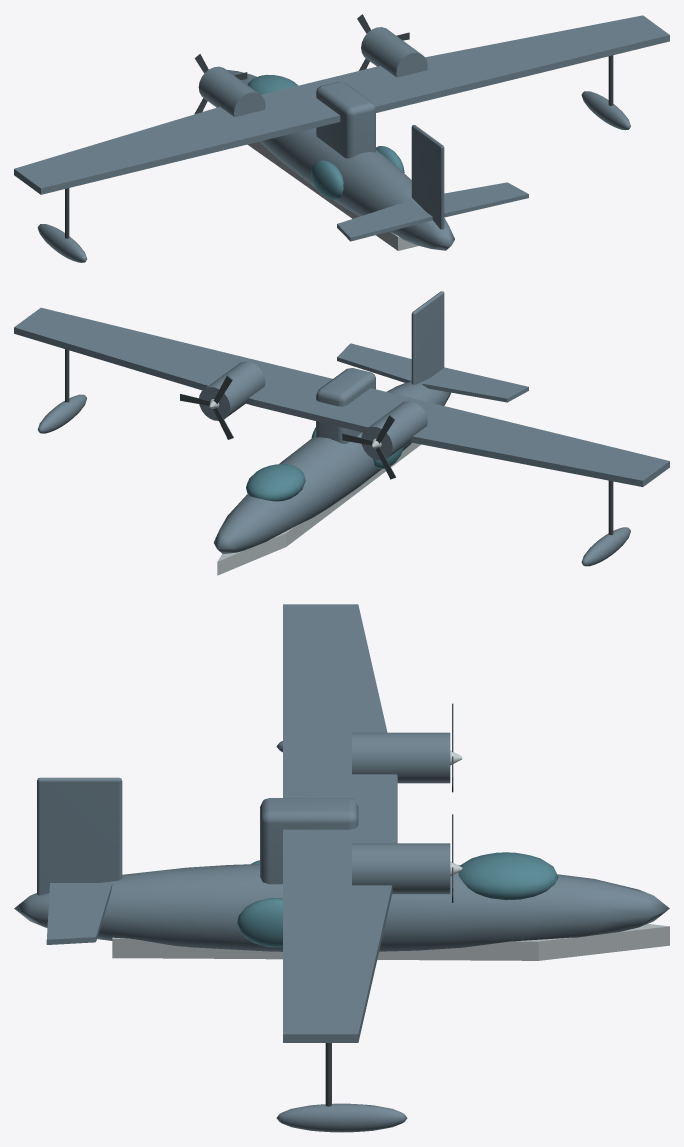
Rendered from generic-ww2-scout.glb.
3 renders of one model, top to bottom at view 1: azimuth 30°, elevation 25°; view 2: azimuth 150°, elevation 25°; view 3: azimuth 270°, elevation 25°, orthographic. The views are drawn at different scales.
Parts seen in each view (by area): view 1: ww2-scout_HighWing, ww2-scout_FlyingBoatHull, ww2-scout_WingPylon, ww2-scout_VerticalTail, ww2-scout_EngineNacelle, ww2-scout_EngineNacelle.001, ww2-scout_Tailplane, ww2-scout_Tailplane.001, ww2-scout_FlyingBoatKeel, ww2-scout_ObserverBlister, ww2-scout_WingFloat, ww2-scout_WingFloat.001 (+1 smaller); view 2: ww2-scout_HighWing, ww2-scout_FlyingBoatHull, ww2-scout_VerticalTail, ww2-scout_FlyingBoatKeel, ww2-scout_WingPylon, ww2-scout_EngineNacelle, ww2-scout_EngineNacelle.001, ww2-scout_Tailplane, ww2-scout_Cockpit, ww2-scout_Tailplane.001, ww2-scout_WingFloat, ww2-scout_WingFloat.001 (+2 smaller); view 3: ww2-scout_HighWing, ww2-scout_FlyingBoatHull, ww2-scout_VerticalTail, ww2-scout_FlyingBoatKeel, ww2-scout_EngineNacelle.001, ww2-scout_EngineNacelle, ww2-scout_WingPylon, ww2-scout_Cockpit, ww2-scout_Tailplane.001, ww2-scout_WingFloat.001, ww2-scout_ObserverBlister.001.
Boxes of the visible parts, <box> form: ww2-scout_HighWing: <box>14,15,669,194</box>; ww2-scout_FlyingBoatHull: <box>226,69,454,250</box>; ww2-scout_WingPylon: <box>316,81,375,158</box>; ww2-scout_VerticalTail: <box>411,125,444,229</box>; ww2-scout_EngineNacelle: <box>198,66,265,117</box>; ww2-scout_EngineNacelle.001: <box>361,27,427,77</box>; ww2-scout_Tailplane: <box>337,200,432,241</box>; ww2-scout_Tailplane.001: <box>444,182,528,217</box>; ww2-scout_FlyingBoatKeel: <box>247,141,418,250</box>; ww2-scout_ObserverBlister: <box>311,160,343,199</box>; ww2-scout_WingFloat: <box>37,224,86,262</box>; ww2-scout_WingFloat.001: <box>581,91,630,130</box>; ww2-scout_HighWing: <box>14,307,669,486</box>; ww2-scout_FlyingBoatHull: <box>213,378,450,554</box>; ww2-scout_VerticalTail: <box>411,291,444,384</box>; ww2-scout_FlyingBoatKeel: <box>217,442,420,575</box>; ww2-scout_WingPylon: <box>316,368,375,443</box>; ww2-scout_EngineNacelle: <box>361,401,427,460</box>; ww2-scout_EngineNacelle.001: <box>199,361,265,420</box>; ww2-scout_Tailplane: <box>422,367,528,402</box>; ww2-scout_Cockpit: <box>246,464,305,501</box>; ww2-scout_Tailplane.001: <box>337,343,411,382</box>; ww2-scout_WingFloat: <box>581,527,630,566</box>; ww2-scout_WingFloat.001: <box>37,394,86,433</box>; ww2-scout_HighWing: <box>283,604,397,1042</box>; ww2-scout_FlyingBoatHull: <box>14,864,669,951</box>; ww2-scout_VerticalTail: <box>37,777,122,895</box>; ww2-scout_FlyingBoatKeel: <box>112,924,669,960</box>; ww2-scout_EngineNacelle.001: <box>352,843,450,894</box>; ww2-scout_EngineNacelle: <box>352,732,450,783</box>; ww2-scout_WingPylon: <box>260,798,358,884</box>; ww2-scout_Cockpit: <box>458,852,558,900</box>; ww2-scout_Tailplane.001: <box>46,883,112,944</box>; ww2-scout_WingFloat.001: <box>276,1103,407,1132</box>; ww2-scout_ObserverBlister.001: <box>237,898,282,947</box>.
Size of the model in its own units: 31 by 6.12 by 20.
